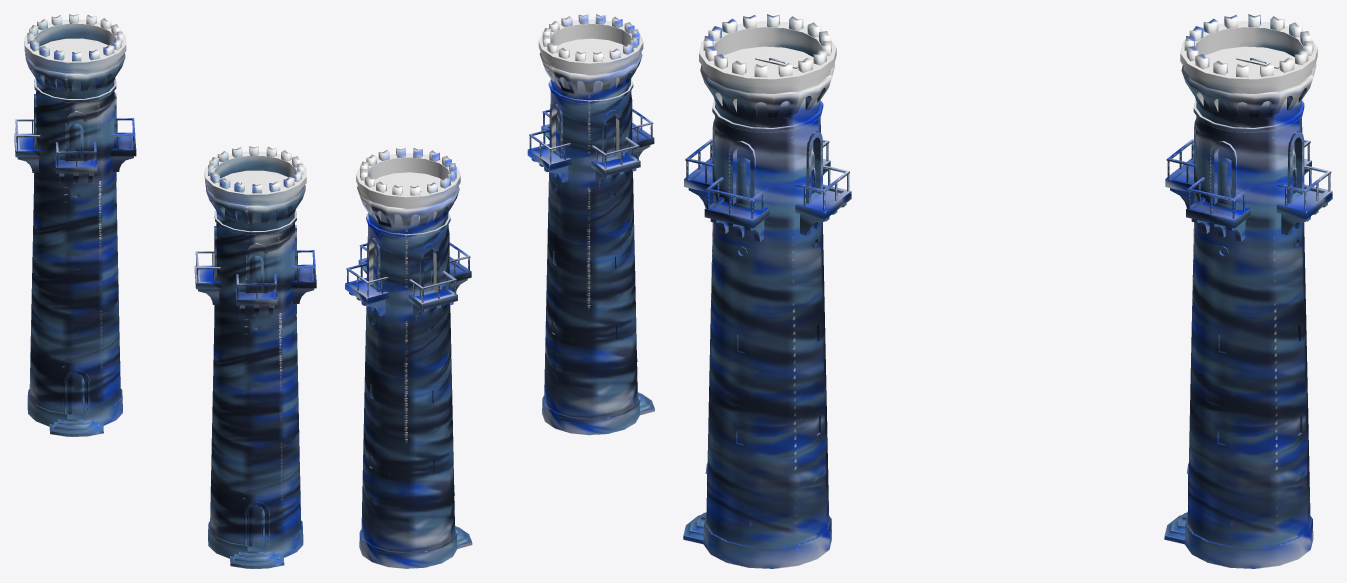
The model's file is water.glb.
The picture shows the model from 3 angles, left to right: view 1: azimuth 30°, elevation 25°; view 2: azimuth 150°, elevation 25°; view 3: azimuth 270°, elevation 25°; orthographic projection. The views are drawn at different scales.
Parts seen in each view (by area): view 1: kickelhahn_tower (×2); view 2: kickelhahn_tower (×2); view 3: kickelhahn_tower (×2).
Part boxes in pixels (x1,y1,x2,y2): kickelhahn_tower (×2): [14, 14, 316, 568]; kickelhahn_tower (×2): [345, 14, 654, 568]; kickelhahn_tower (×2): [683, 14, 1332, 568].
Bounding box in the file's own units: 7.29 × 24.03 × 28.27.
2 materials, 2 textured.
